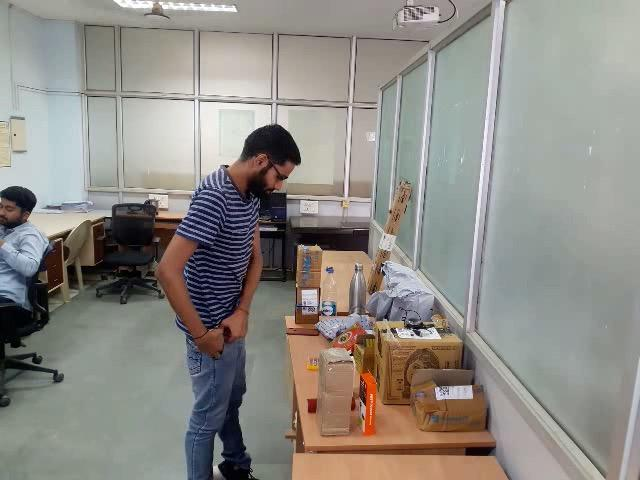shoplifting: (149, 311, 253, 387)
